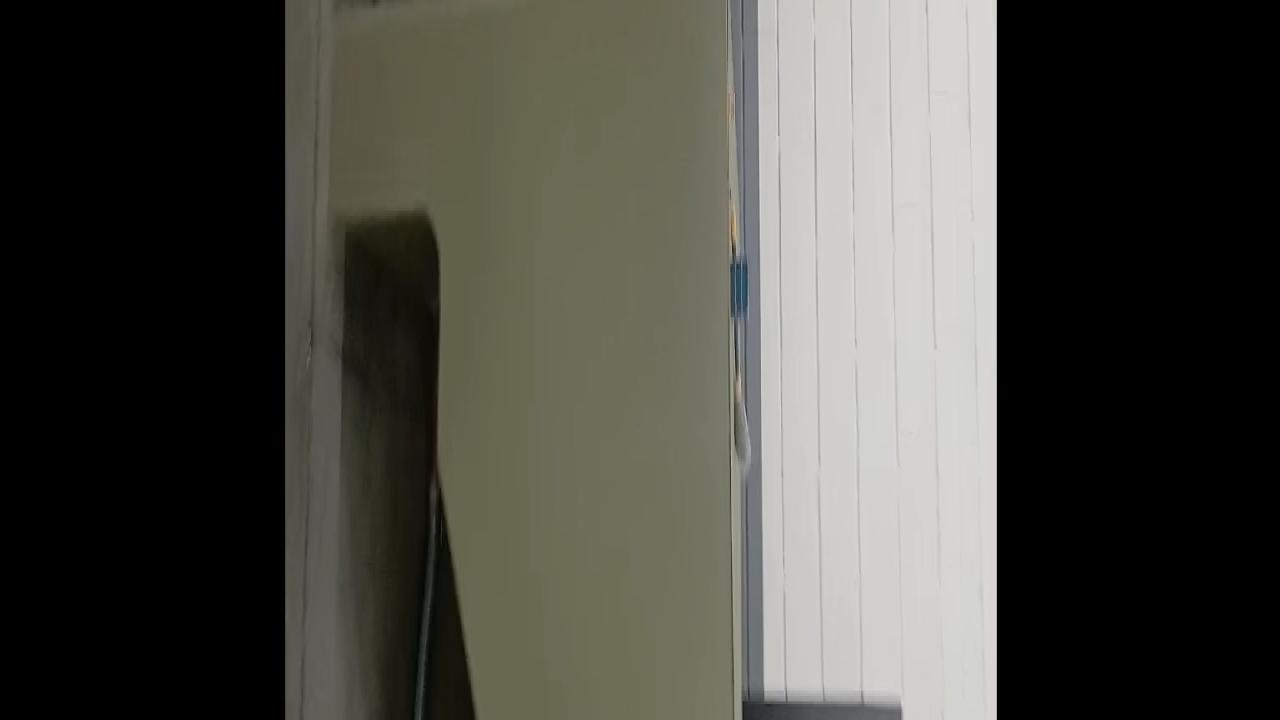Cube: (729, 251, 750, 326)
